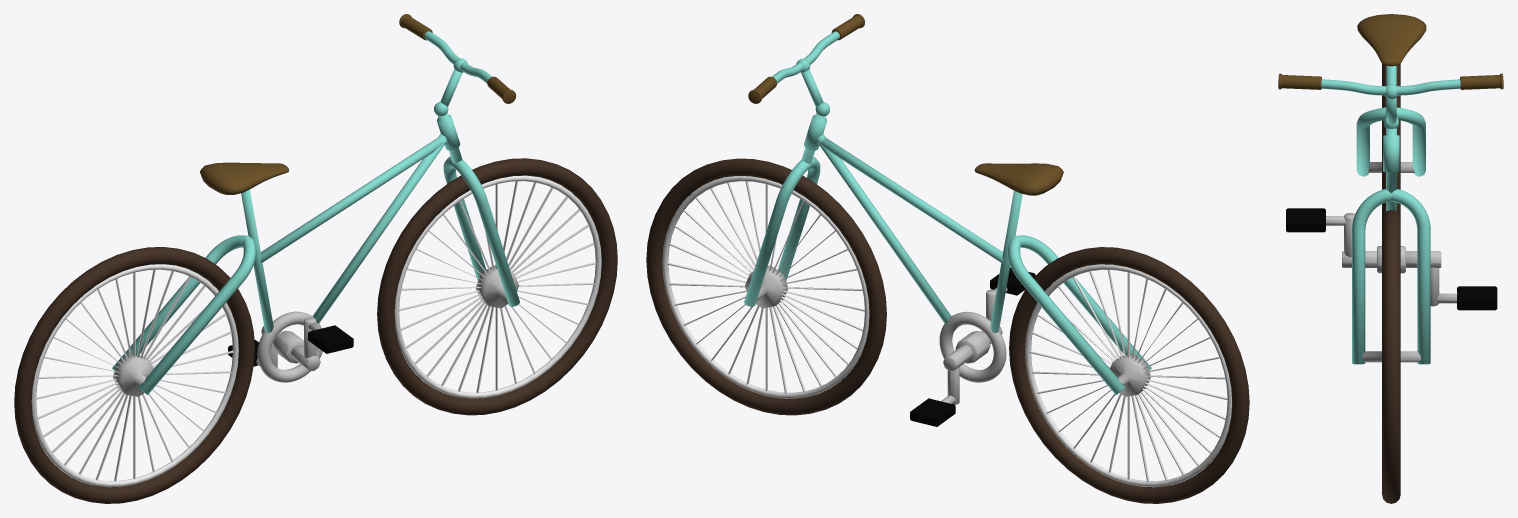
Rendered from MyVeryOwnBicycle.glb.
3 renders of one model, left to right at view 1: azimuth 30°, elevation 25°; view 2: azimuth 150°, elevation 25°; view 3: azimuth 270°, elevation 25°, orthographic. The views are drawn at different scales.
Parts seen in each view (by area): view 1: WheelRear, WheelFront, Frame, HandleBar, Crank, PedalRight; view 2: WheelRear, WheelFront, Frame, HandleBar, Crank, PedalLeft; view 3: HandleBar, WheelFront, Frame, Crank, WheelRear, PedalLeft, PedalRight.
Part boxes in pixels (x1,y1,x2,y2): WheelRear: [14, 247, 254, 503]; WheelFront: [377, 158, 617, 415]; Frame: [112, 134, 447, 394]; HandleBar: [399, 14, 519, 306]; Crank: [256, 317, 322, 370]; PedalRight: [308, 325, 353, 353]; WheelRear: [1009, 247, 1249, 503]; WheelFront: [646, 158, 886, 415]; Frame: [816, 134, 1151, 394]; HandleBar: [744, 14, 864, 306]; Crank: [941, 287, 1007, 404]; PedalLeft: [910, 398, 955, 426]; HandleBar: [1278, 73, 1503, 364]; WheelFront: [1361, 210, 1420, 503]; Frame: [1356, 14, 1426, 211]; Crank: [1326, 213, 1457, 306]; WheelRear: [1367, 64, 1414, 218]; PedalLeft: [1457, 286, 1497, 310]; PedalRight: [1286, 208, 1325, 232].
Size of the model in its own units: 6.95 by 4.08 by 2.11.
